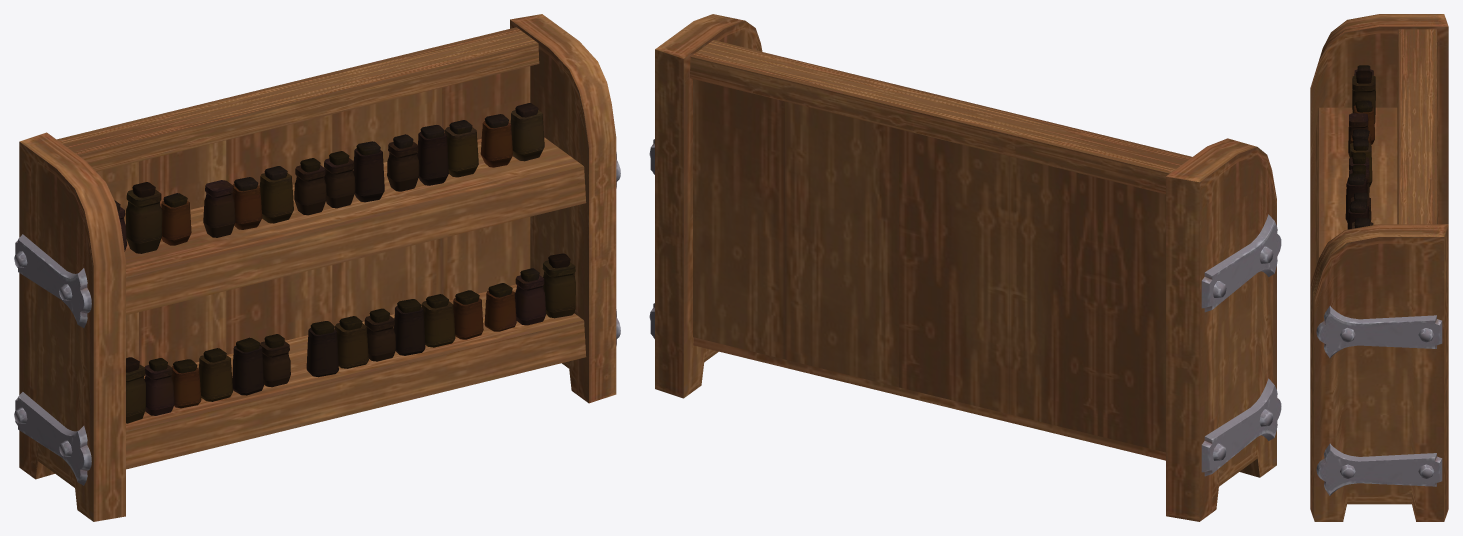
File: prop_shelf_small_bottles.glb
3 renders of one model, left to right at view 1: azimuth 30°, elevation 25°; view 2: azimuth 150°, elevation 25°; view 3: azimuth 270°, elevation 25°, orthographic. The views are drawn at different scales.
Visible parts, largest first — view 1: Cube166_2, Cube166, Cube166_1; view 2: Cube166_2, Cube166_1; view 3: Cube166_2, Cube166_1, Cube166.
Boxes of the visible parts, x1=… form: Cube166_2: x1=19, y1=14, x2=616, y2=521; Cube166: x1=114, y1=103, x2=575, y2=423; Cube166_1: x1=14, y1=152, x2=620, y2=485; Cube166_2: x1=655, y1=14, x2=1276, y2=521; Cube166_1: x1=649, y1=139, x2=1281, y2=476; Cube166_2: x1=1310, y1=14, x2=1448, y2=521; Cube166_1: x1=1316, y1=306, x2=1442, y2=495; Cube166: x1=1345, y1=65, x2=1375, y2=229.
Bounding box in the file's own units: 1.14 × 0.6474 × 0.2846.
3 materials, 3 textured.
